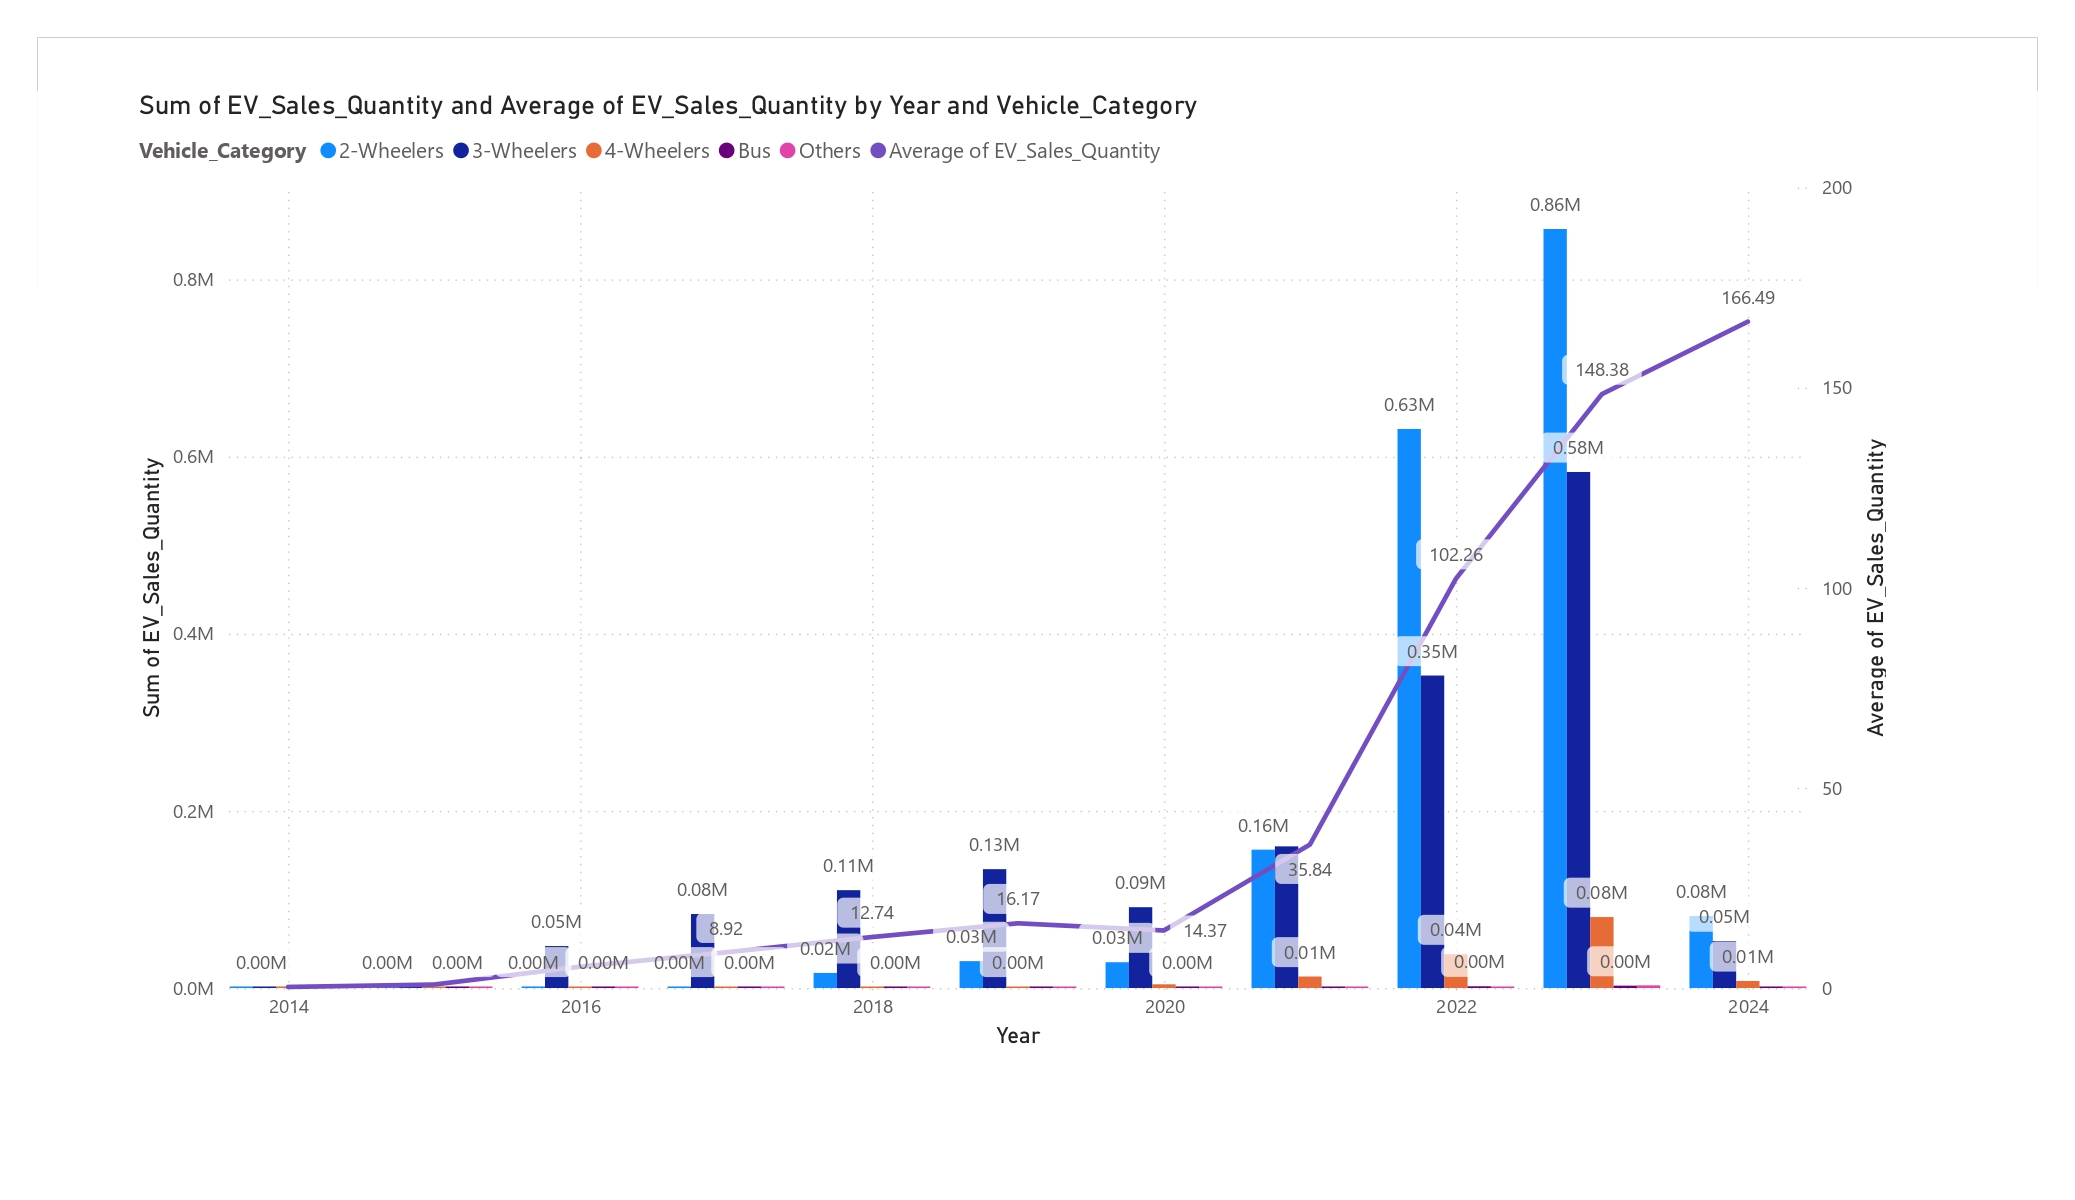

Layout of this report page (visuals, bound fields, positions):
{"tool":"powerbi","page":{"name":"Page 6","canvas":[1280,720],"ordinal":5},"visuals":[{"type":"lineClusteredColumnComboChart","fields":{"Category":["ev.Year"],"Y":["Sum(ev.EV_Sales_Quantity)"],"Series":["ev.Vehicle_Category"],"Y2":["Avg(ev.EV_Sales_Quantity)"]},"box":[59.6,33.1,1128.1,617.9],"z":0}]}

Visuals, with their boxes on the page's 1280x720 design canvas (x1, y1, x2, y2). These are canvas units, not pixel positions in the 2075x1200 screenshot, which may show the page scaled, cropped or inside an application window:
lineClusteredColumnComboChart - ev.Year x Sum(ev.EV_Sales_Quantity): <region>60, 33, 1188, 651</region>
